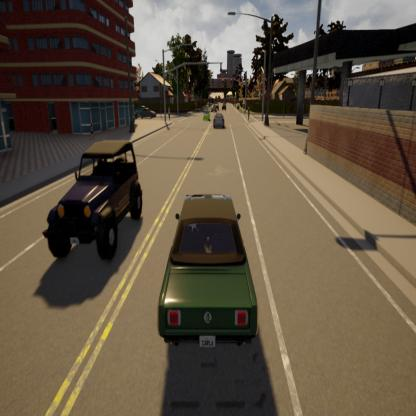Cars: (157, 188, 261, 356), (43, 135, 146, 269), (213, 110, 226, 131), (142, 106, 156, 119), (202, 111, 210, 121)
Pedestrian: (168, 107, 172, 123)
